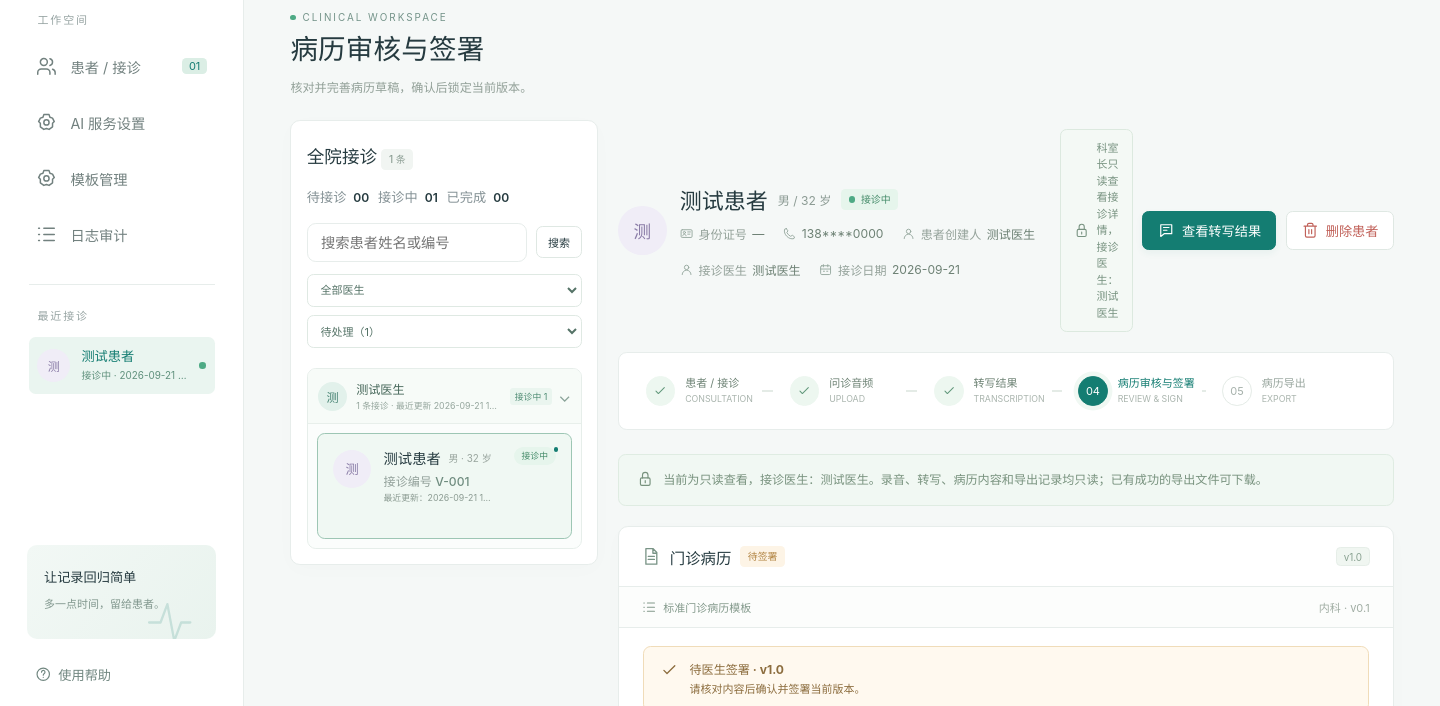
Test: historical export downloads and read-only previews › disables template preview until the current record is signed
Click the button with class "step" showing "05 病历导出 EXPORT" at (1294, 391), box [1222,375,1366,407]
(page scrolled)
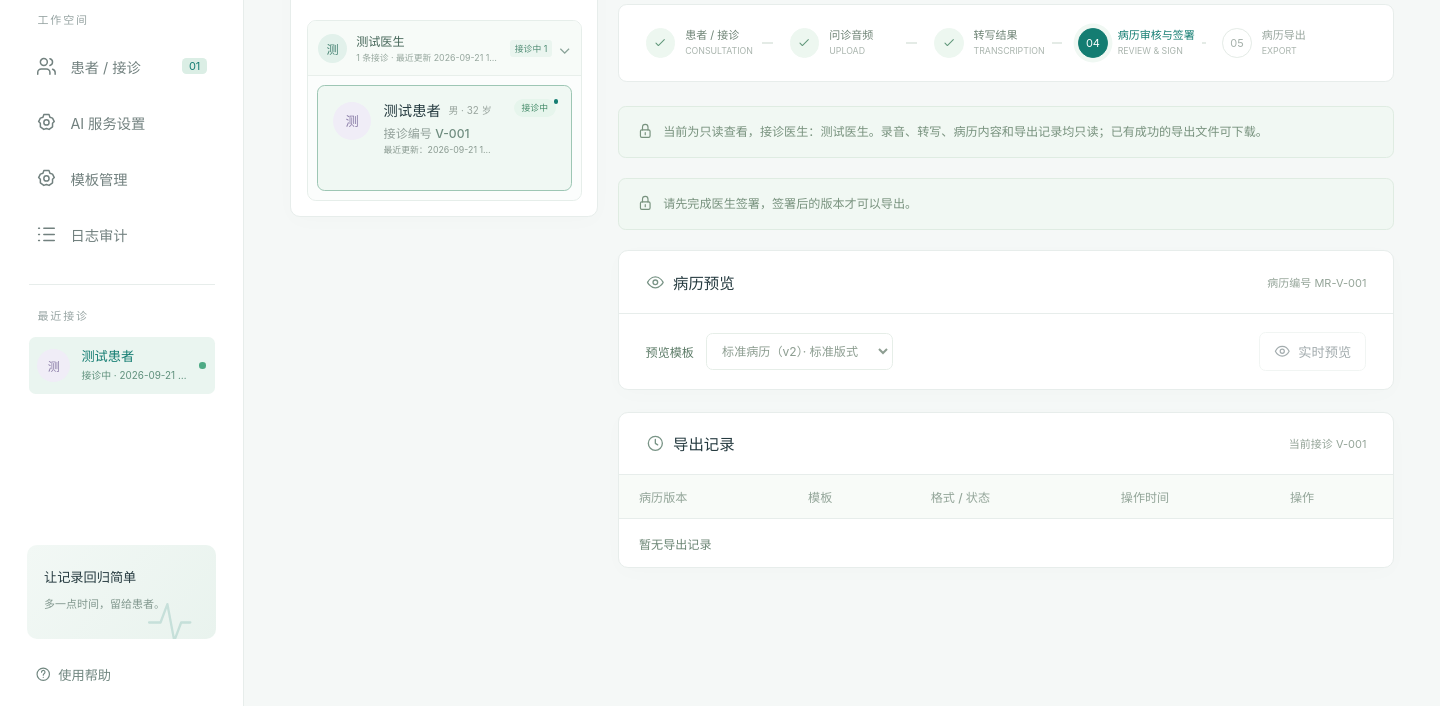
Expected: the button "实时预览" is disabled, [1259,332,1366,371]
